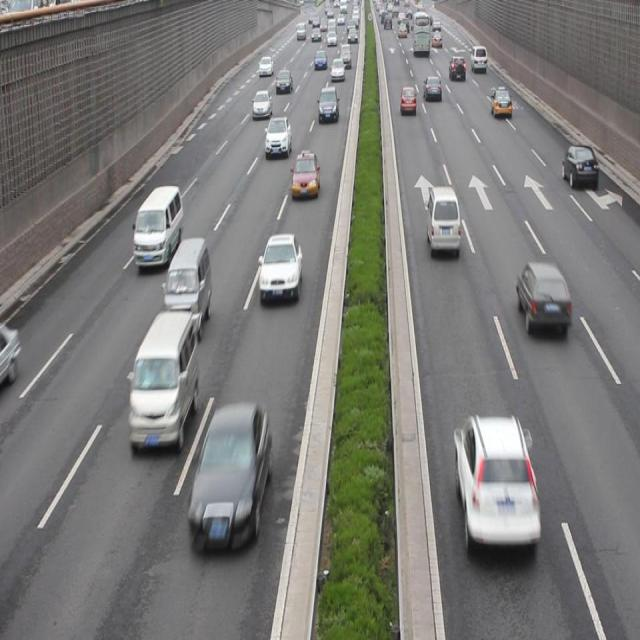car: (453, 414, 540, 554), (190, 401, 269, 550), (515, 259, 570, 334), (260, 232, 298, 301), (562, 148, 596, 186), (292, 149, 318, 198), (264, 116, 289, 155)
truck: (130, 307, 197, 449), (163, 235, 211, 343), (134, 185, 182, 270), (426, 188, 461, 260)
